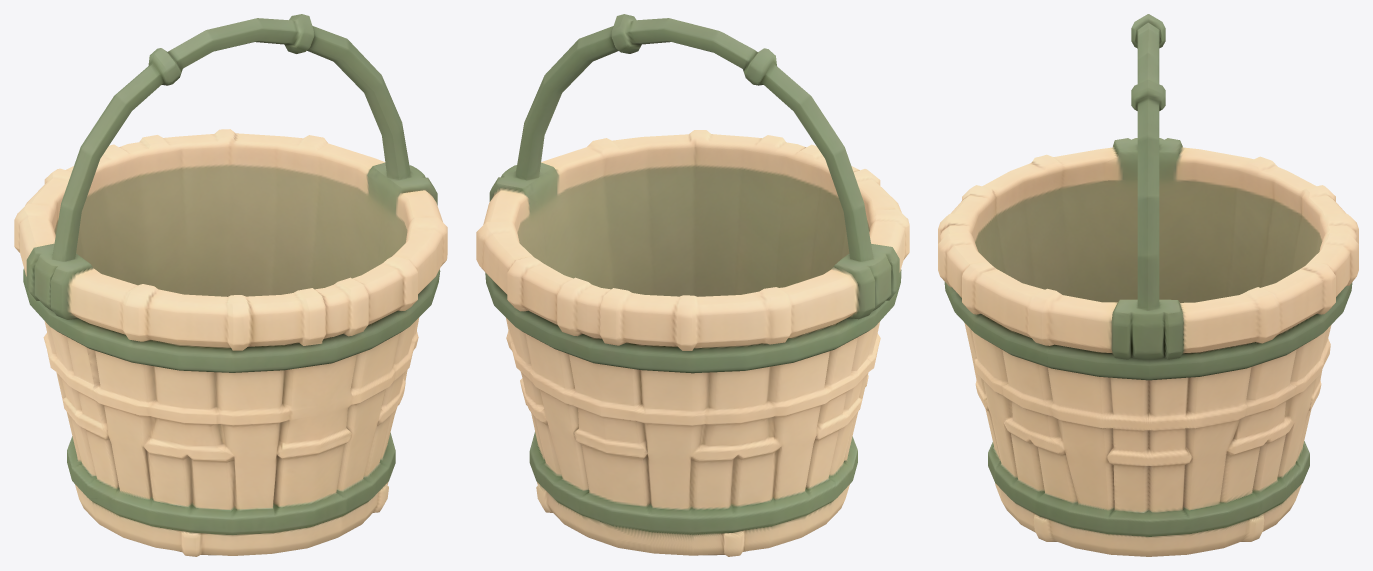
Rendered from base_basic_shaded.fbx.
3 views of the same model, side by side, from view 1: azimuth 30°, elevation 25°; view 2: azimuth 150°, elevation 25°; view 3: azimuth 270°, elevation 25° (orthographic). The views are drawn at different scales.
Visible parts, largest first — view 1: model; view 2: model; view 3: model.
Part boxes in pixels (x1,y1,x2,y2): model: (14, 14, 447, 556); model: (476, 14, 909, 556); model: (938, 14, 1358, 556).
Bounding box in the file's own units: 154 × 182 × 151.
